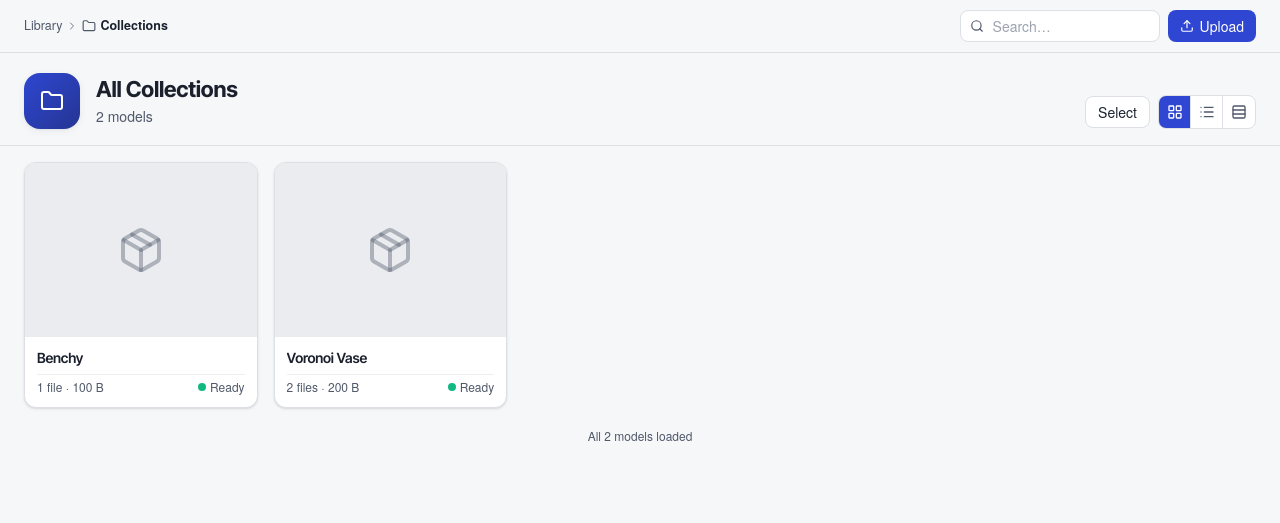
PivotMain › shows move and delete actions after selecting a model
Check: the heading "Benchy" is shown, box [37,349,83,366]
Click the button "Select".
click(1118, 112)  # box [1085,96,1150,128]
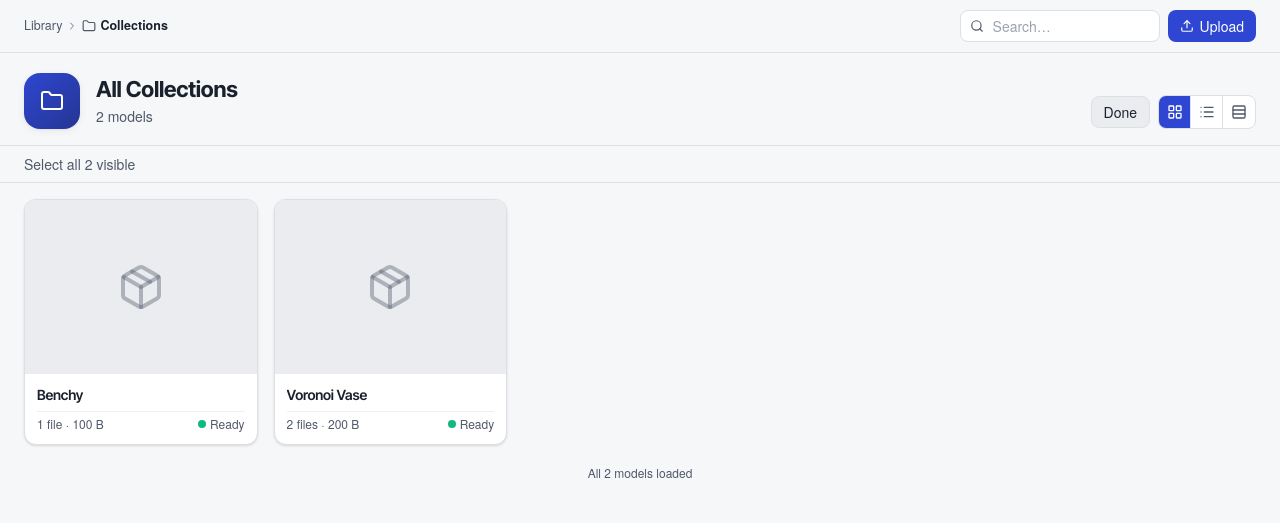
Click the button with aria-label "Select model: Benchy".
click(141, 322)  # box [24,199,258,445]
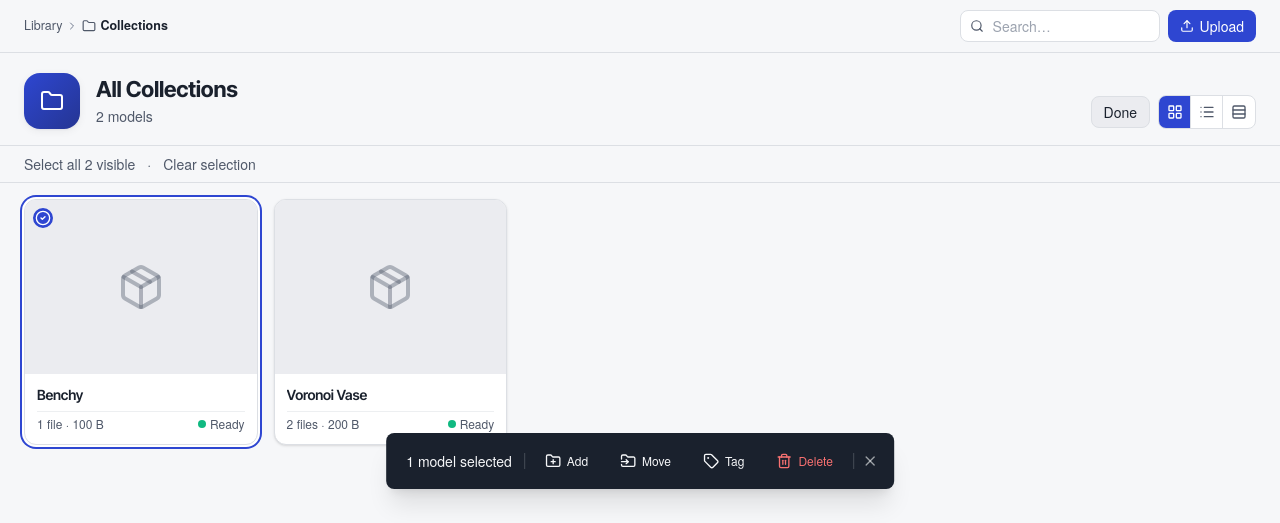
Check: the text "1 model selected" is shown, box [402,451,516,471]
Check: the button "Move" is shown, box [608,445,683,477]
Check: the button "Delete" is shown, box [764,445,845,477]
